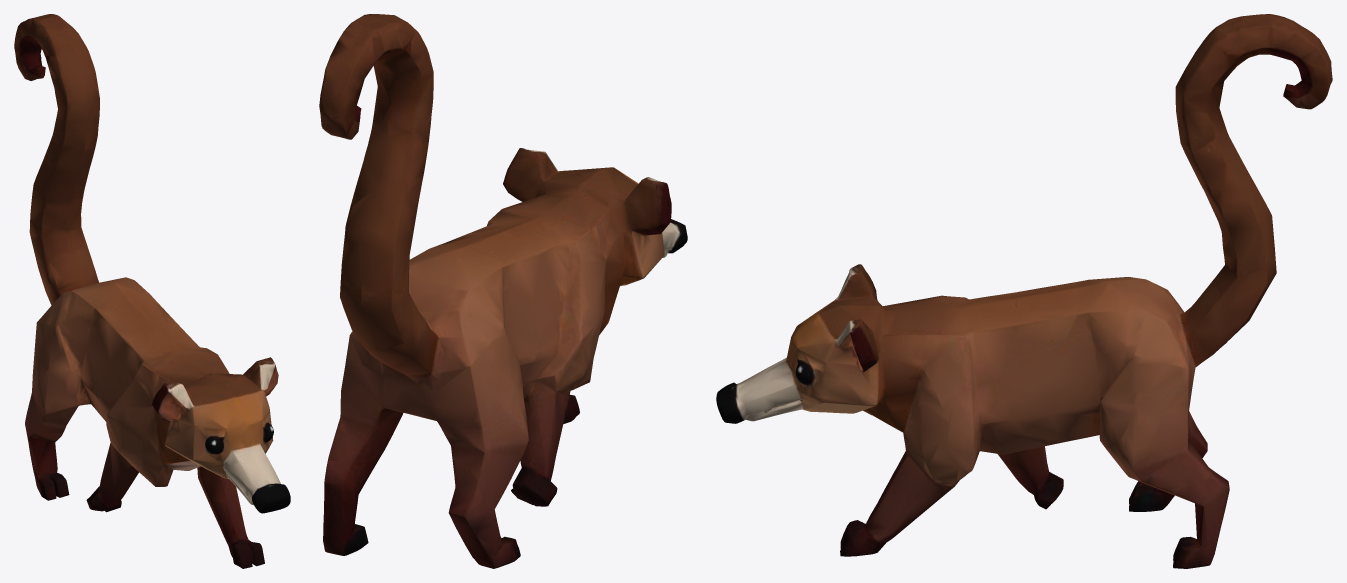
Rendered from coati.glb.
3 renders of one model, left to right at view 1: azimuth 30°, elevation 25°; view 2: azimuth 150°, elevation 25°; view 3: azimuth 270°, elevation 25°, orthographic. The views are drawn at different scales.
Visible parts, largest first — view 1: tripo_node_44ef737a-796c-4ce7-a138-ea51a66dab16; view 2: tripo_node_44ef737a-796c-4ce7-a138-ea51a66dab16; view 3: tripo_node_44ef737a-796c-4ce7-a138-ea51a66dab16.
Part boxes in pixels (box(x1,y1,x2,y2)): tripo_node_44ef737a-796c-4ce7-a138-ea51a66dab16: box(14, 14, 290, 568); tripo_node_44ef737a-796c-4ce7-a138-ea51a66dab16: box(319, 14, 687, 568); tripo_node_44ef737a-796c-4ce7-a138-ea51a66dab16: box(716, 14, 1332, 568).
Size of the model in its own units: 0.2907 by 0.9218 by 0.9997.
Materials: 1 (1 with a texture image).
